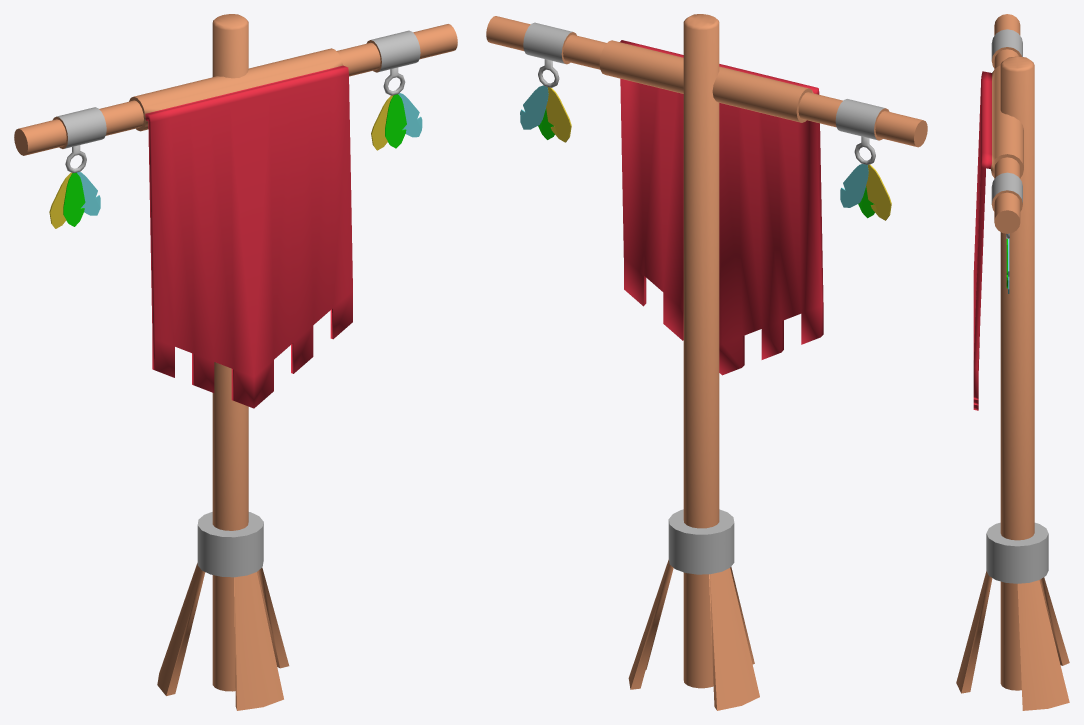
File: Banderin.fbx
3 renders of one model, left to right at view 1: azimuth 30°, elevation 25°; view 2: azimuth 150°, elevation 25°; view 3: azimuth 270°, elevation 25°, orthographic. The views are drawn at different scales.
Parts seen in each view (by area): view 1: bandera, poste, pluma.003; view 2: bandera, poste, pluma.003; view 3: poste, bandera, pluma.003.
Part boxes in pixels (left/top/right/bottom): bandera: left=14, top=24, right=457, bottom=408; poste: left=157, top=14, right=289, bottom=710; pluma.003: left=49, top=93, right=422, bottom=228; bandera: left=486, top=16, right=927, bottom=375; poste: left=628, top=14, right=759, bottom=710; pluma.003: left=520, top=85, right=891, bottom=220; poste: left=956, top=56, right=1069, bottom=710; bandera: left=973, top=14, right=1023, bottom=410; pluma.003: left=1006, top=238, right=1009, bottom=293.
Bounding box in the file's own units: 803 × 1184 × 196.
